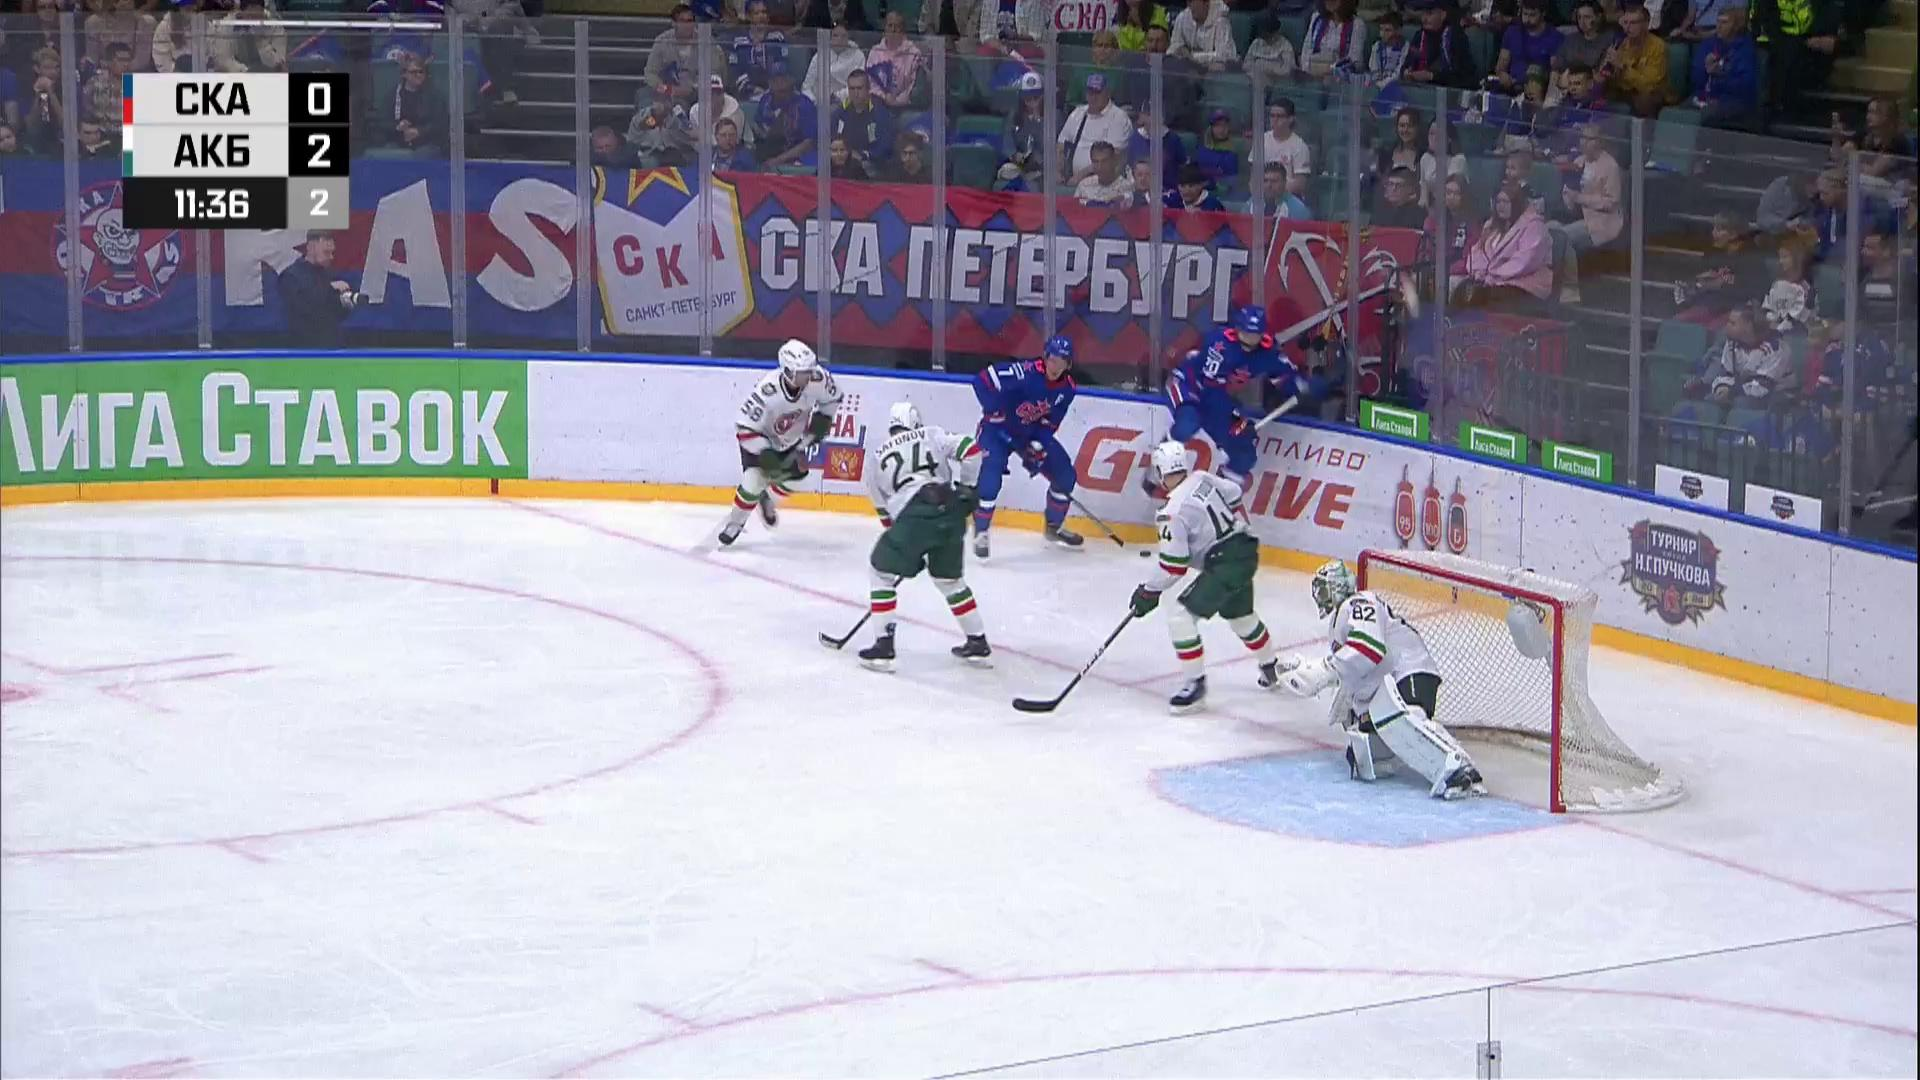ball: (1139, 550, 1151, 558)
